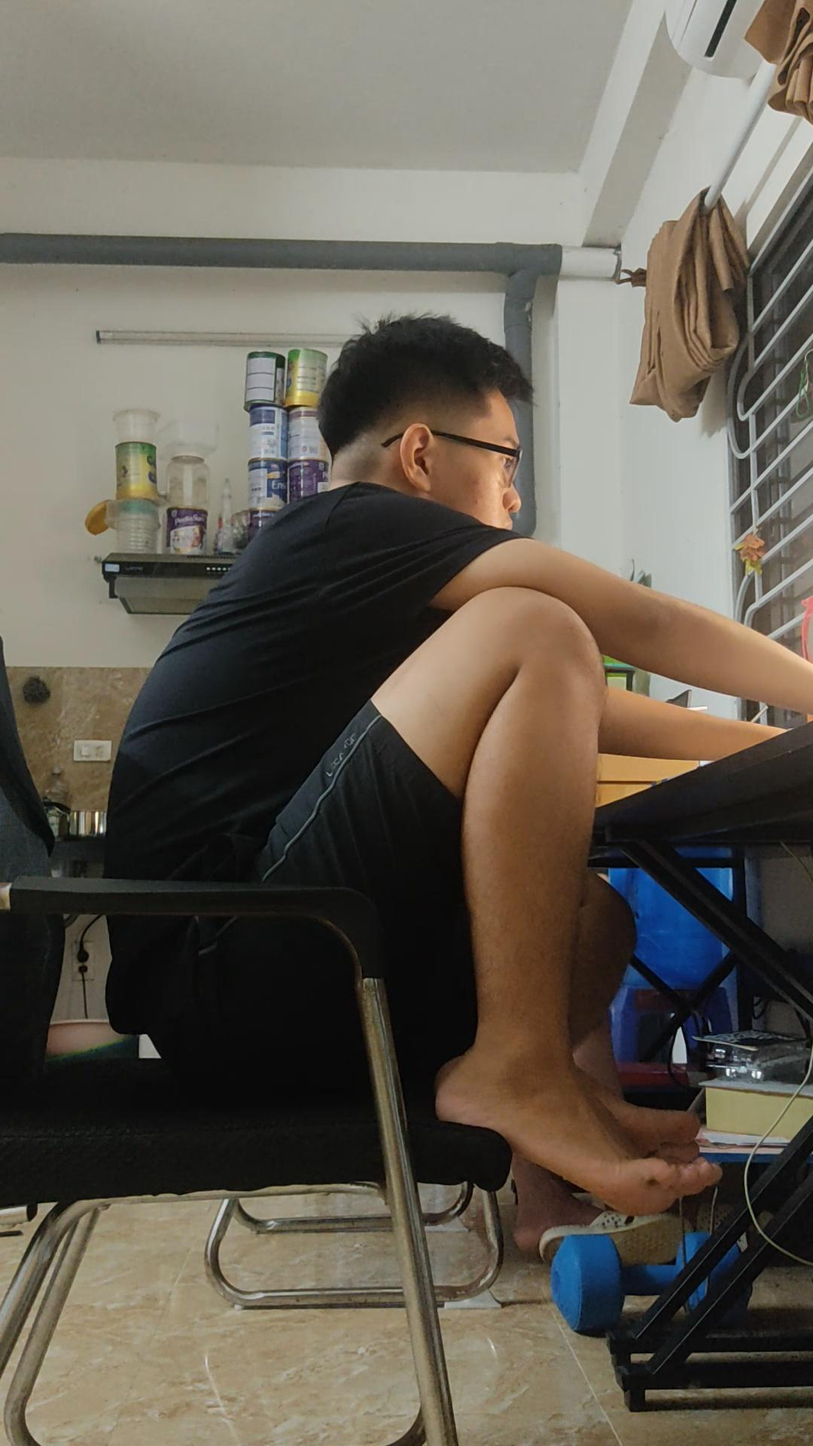BadPosture: (374, 635, 696, 1249)
